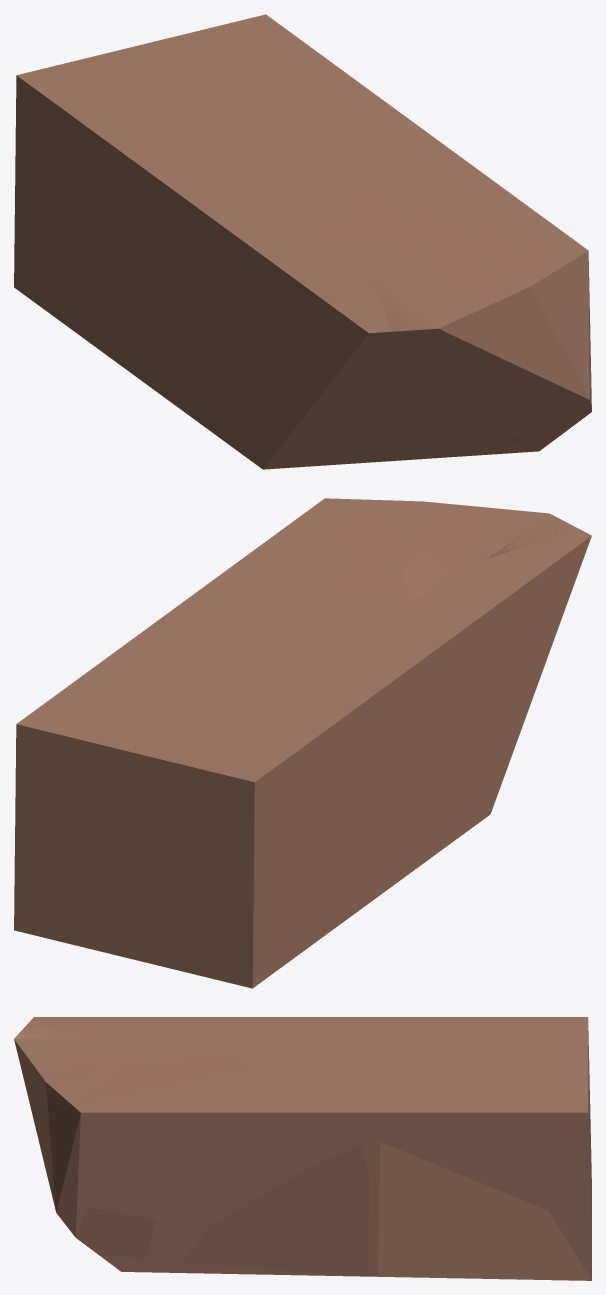
The model's file is holzteil_kaputt.glb.
The picture shows the model from 3 angles, top to bottom: view 1: azimuth 30°, elevation 25°; view 2: azimuth 150°, elevation 25°; view 3: azimuth 270°, elevation 25°; orthographic projection. The views are drawn at different scales.
Parts seen in each view (by area): view 1: Cube_cell.031, Cube_cell.031_cell.003, Cube_cell.031_cell.008, Cube_cell.031_cell.006, Cube_cell.031_cell, Cube_cell.031_cell.009, Cube_cell.031_cell.002, Cube_cell.031_cell.005; view 2: Cube_cell.031, Cube_cell.031_cell.003, Cube_cell.031_cell.008, Cube_cell.031_cell.006, Cube_cell.031_cell, Cube_cell.031_cell.009, Cube_cell.031_cell.002; view 3: Cube_cell.031, Cube_cell.031_cell.006, Cube_cell.031_cell.008, Cube_cell.031_cell.003, Cube_cell.031_cell.007, Cube_cell.031_cell, Cube_cell.031_cell.002, Cube_cell.031_cell.001, Cube_cell.031_cell.005.
Boxes of the visible parts, x1,y1,x2,y2 form: Cube_cell.031: [14, 14, 591, 469]; Cube_cell.031_cell.003: [16, 23, 374, 259]; Cube_cell.031_cell.008: [152, 170, 507, 468]; Cube_cell.031_cell.006: [14, 233, 145, 383]; Cube_cell.031_cell: [349, 201, 574, 297]; Cube_cell.031_cell.009: [223, 227, 369, 400]; Cube_cell.031_cell.002: [322, 229, 529, 395]; Cube_cell.031_cell.005: [373, 280, 440, 379]; Cube_cell.031: [14, 498, 591, 988]; Cube_cell.031_cell.003: [48, 637, 413, 909]; Cube_cell.031_cell.008: [242, 607, 493, 890]; Cube_cell.031_cell.006: [252, 846, 378, 987]; Cube_cell.031_cell: [338, 500, 400, 601]; Cube_cell.031_cell.009: [422, 536, 590, 664]; Cube_cell.031_cell.002: [402, 502, 472, 601]; Cube_cell.031: [14, 1017, 591, 1280]; Cube_cell.031_cell.006: [378, 1142, 591, 1280]; Cube_cell.031_cell.008: [173, 1017, 369, 1276]; Cube_cell.031_cell.003: [327, 1017, 588, 1103]; Cube_cell.031_cell.007: [75, 1207, 156, 1271]; Cube_cell.031_cell: [48, 1055, 248, 1115]; Cube_cell.031_cell.002: [20, 1048, 204, 1140]; Cube_cell.031_cell.001: [173, 1154, 296, 1215]; Cube_cell.031_cell.005: [14, 1024, 109, 1038].
Bounding box in the file's own units: 0.0408 × 0.0335 × 0.1042.
